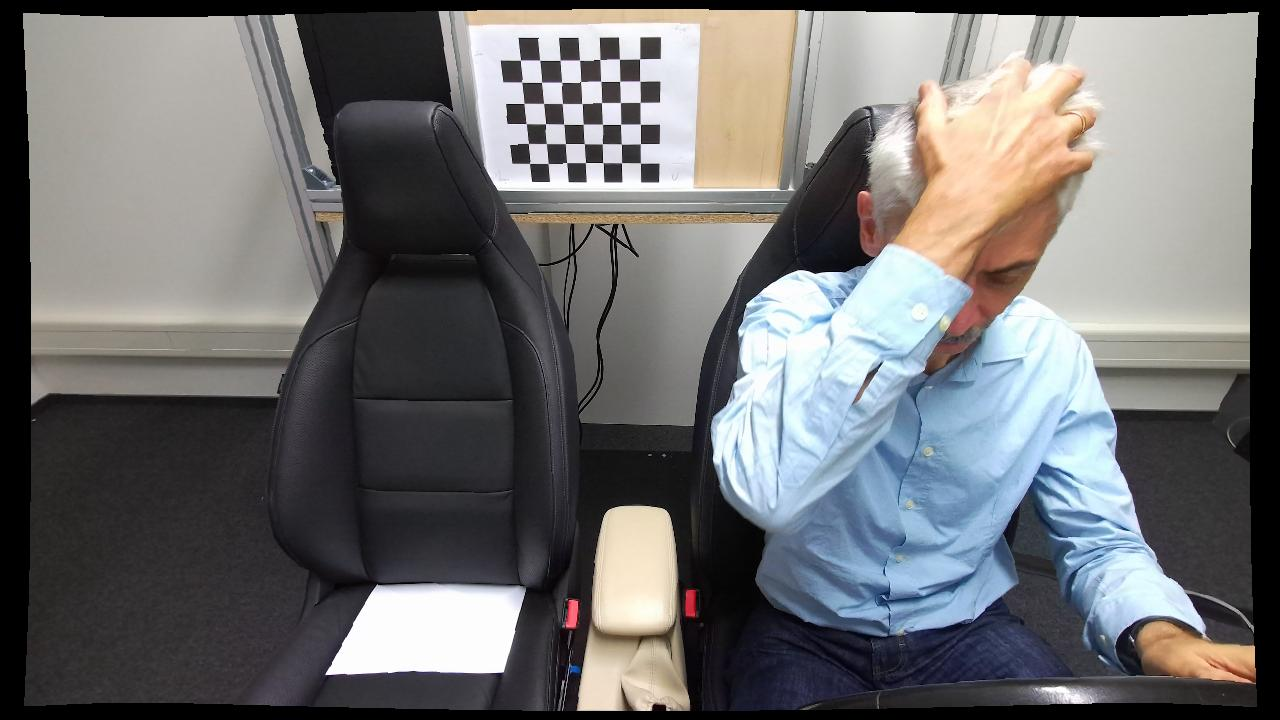Distracted: (693, 58, 1141, 712)
